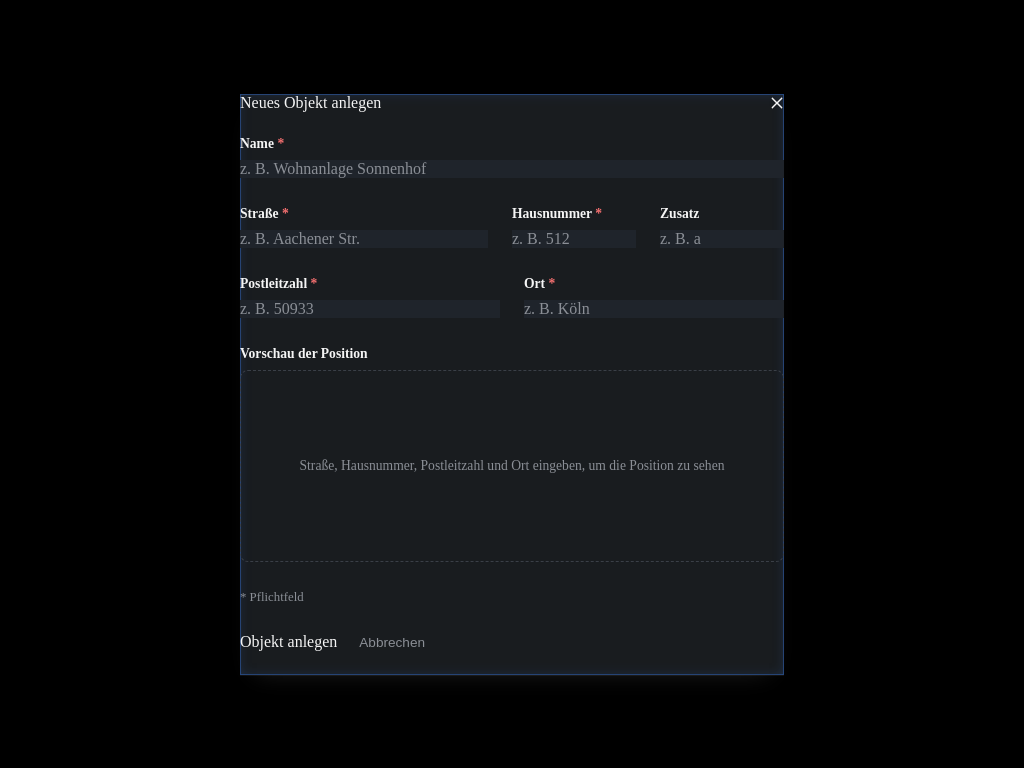
PropertyFormDialog › flags a city containing a symbol no real German place name contains, with a hint and a red border, and disables submit
In the field labelled "Name *": point(512, 168) [240,160,784,178], type "Wohnanlage Nordpark"
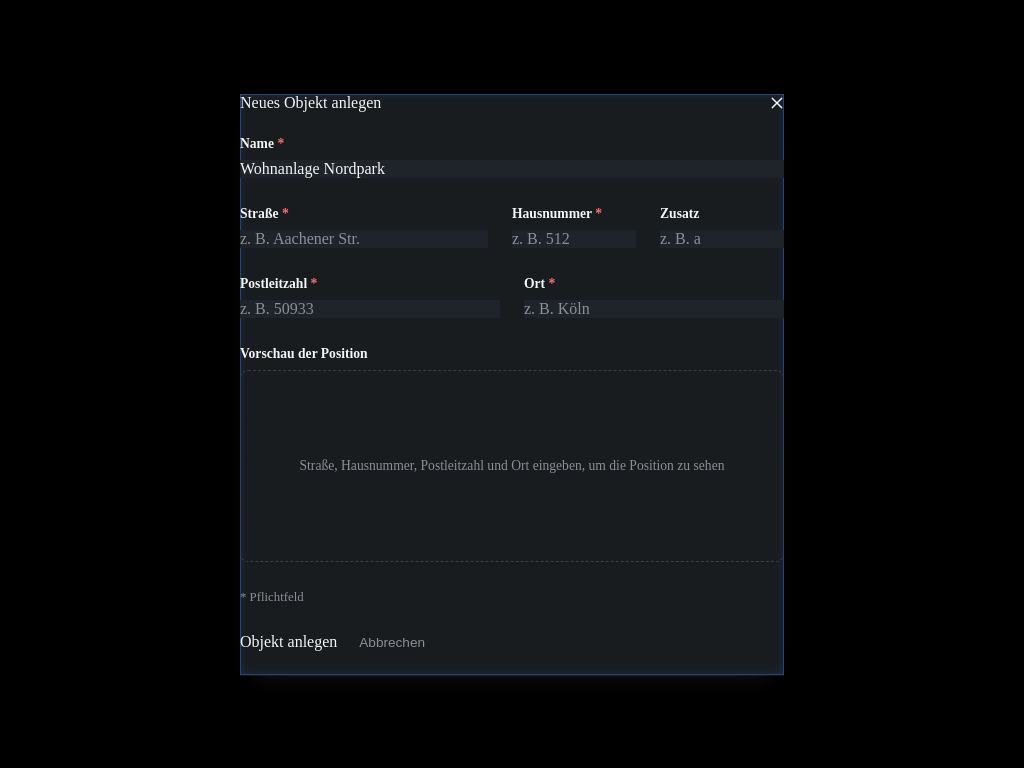
In the field labelled "Straße *": point(364, 238) [240,230,488,248], type "Nordparkstr."
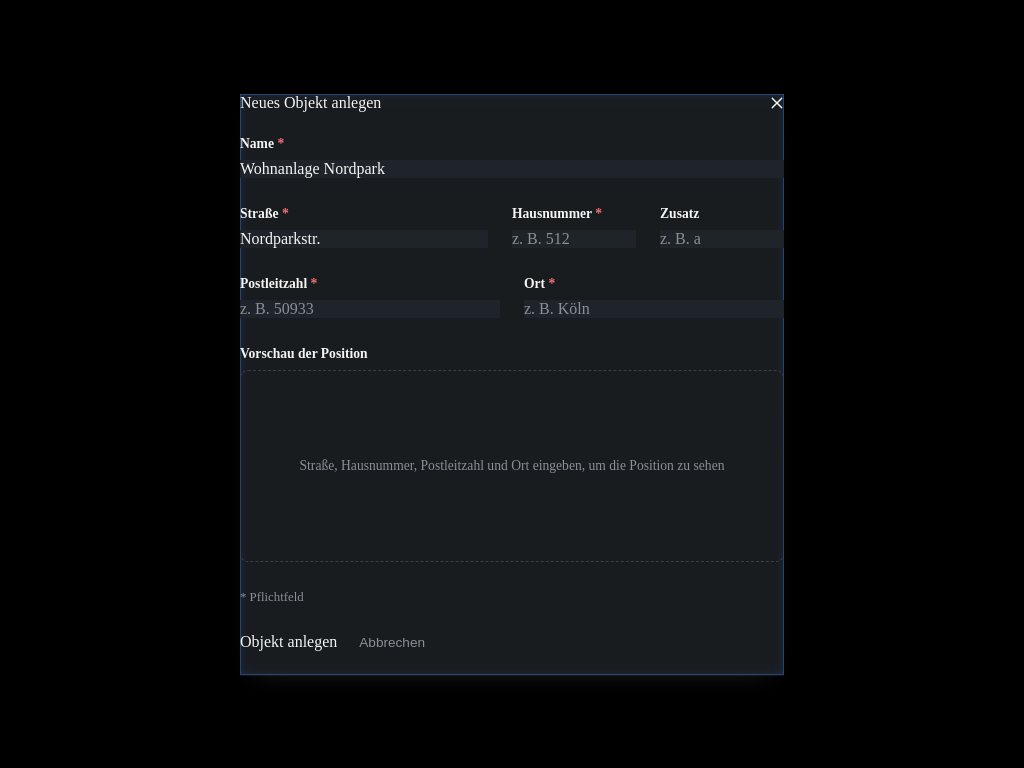
In the field labelled "Hausnummer *": point(574, 238) [512,230,636,248], type "3"
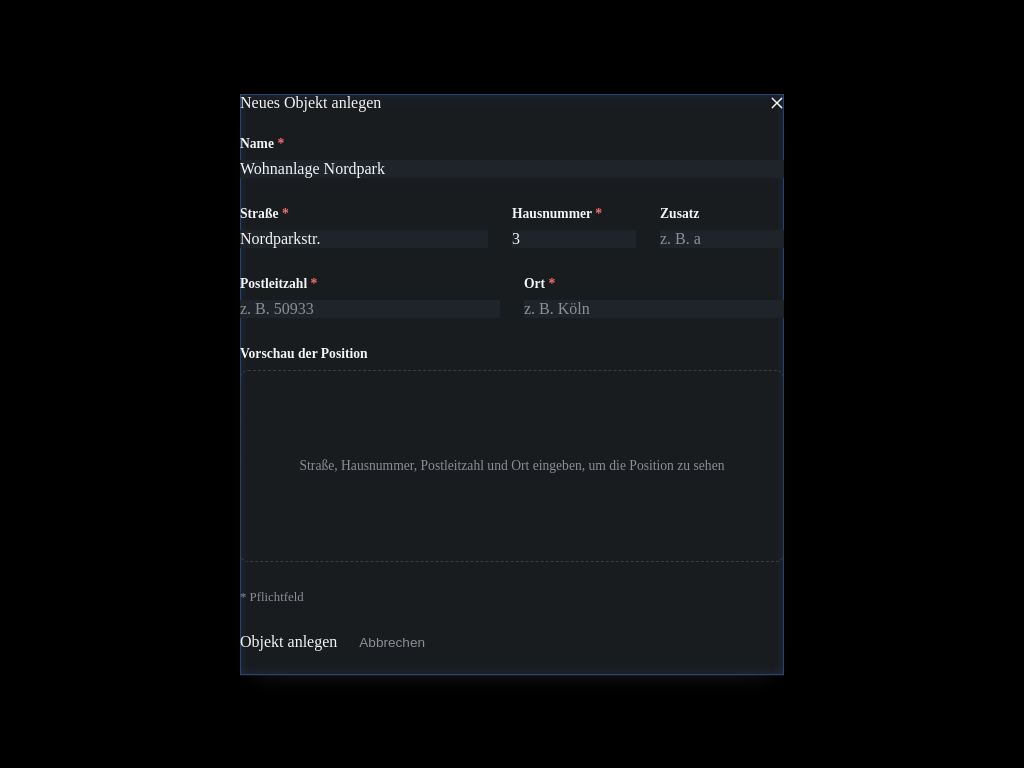
In the field labelled "Postleitzahl *": point(370, 308) [240,300,500,318], type "50733"
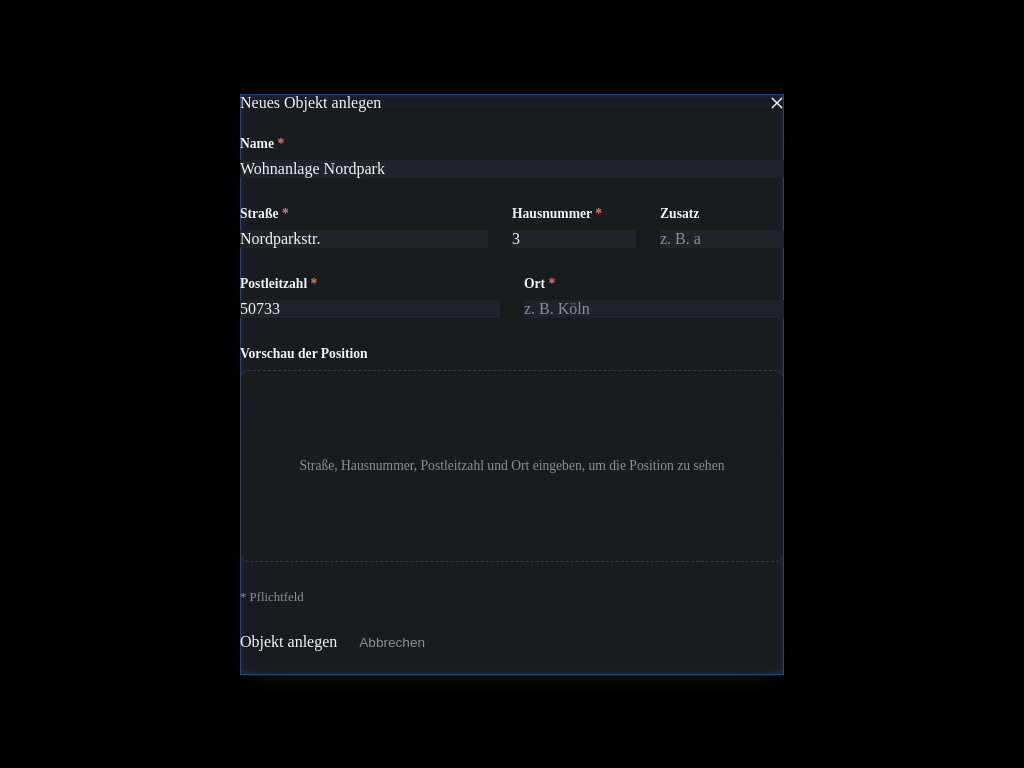
In the field labelled "Ort *": point(654, 308) [524,300,784,318], type "Köln@Stadt"
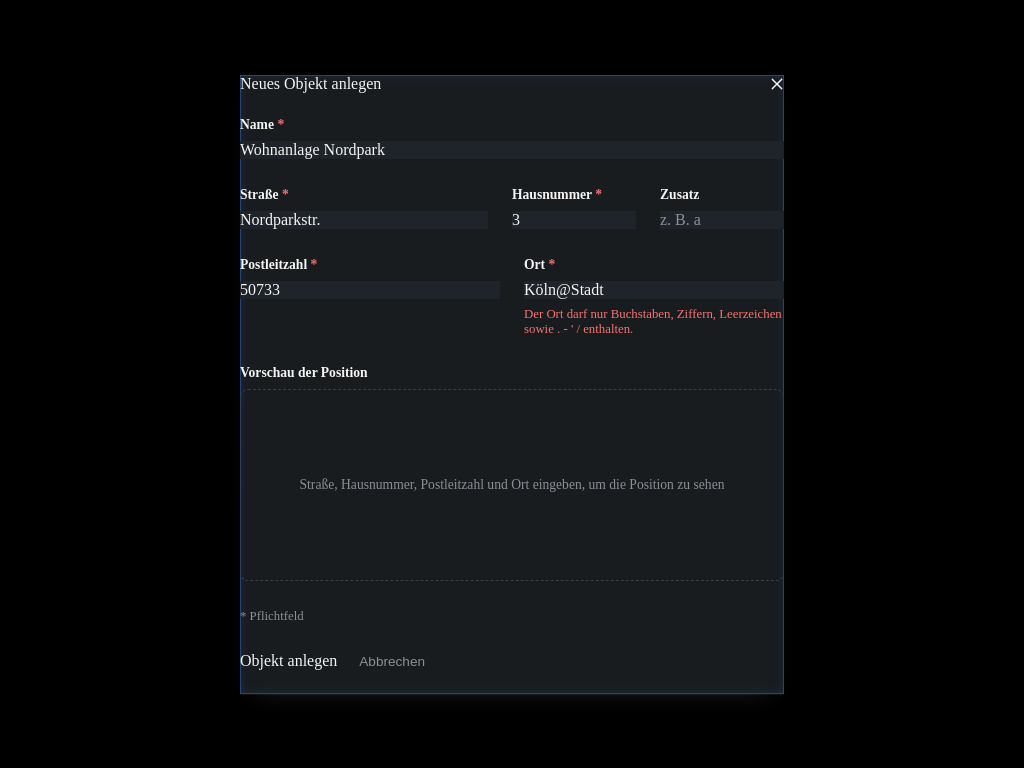
Expected: the button "Objekt anlegen" is disabled, [240,652,337,670]
Expected: the text "Der Ort darf nur Buchstaben, Ziffern, Leerzeichen sowie . - ' / enthalten." is shown, [524,306,784,336]
